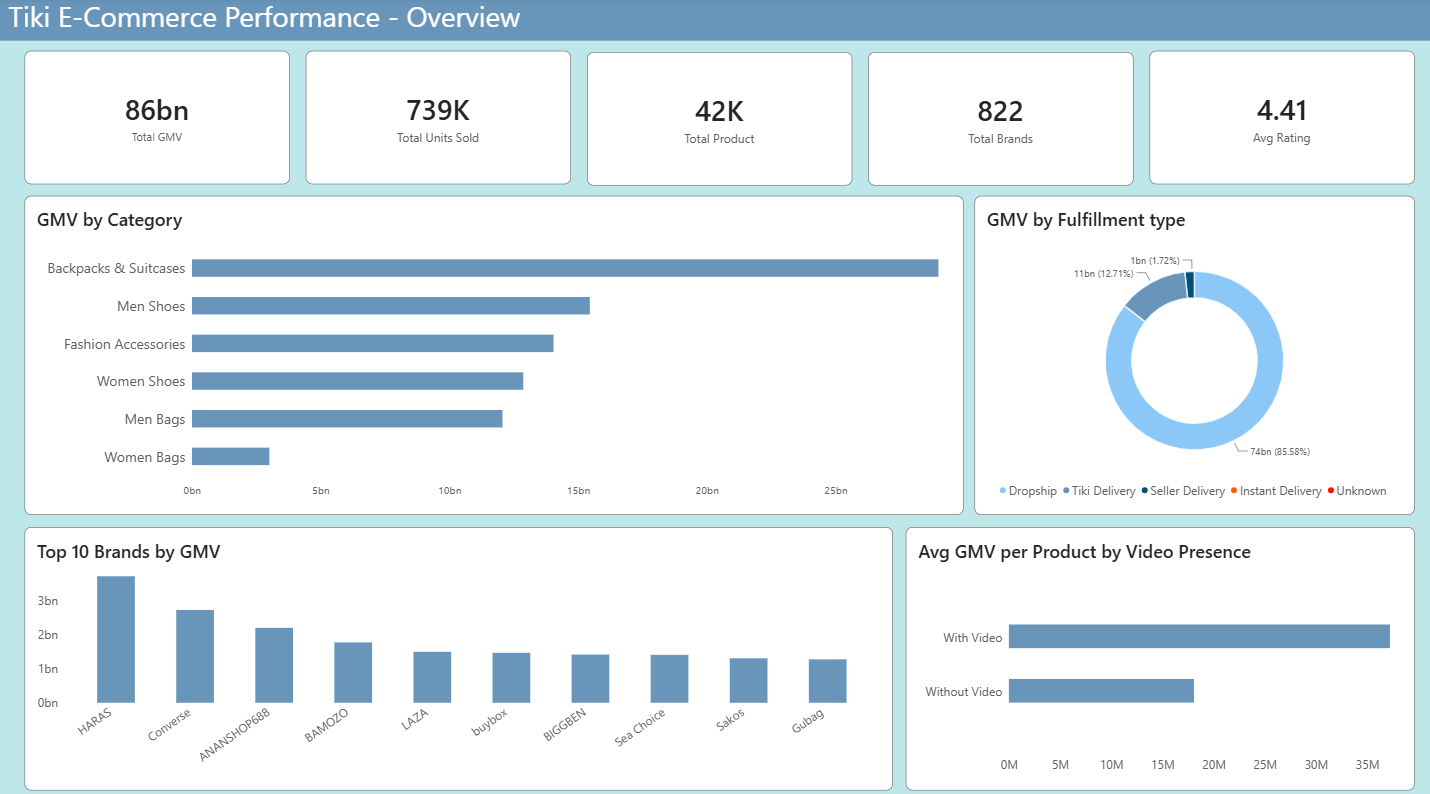

The dashboard page shown, as its layout file describes it:
{"tool":"powerbi","page":{"name":"Overview","canvas":[1920,1080],"ordinal":0},"visuals":[{"type":"shape","box":[0,0,1920,58],"z":0},{"type":"textbox","box":[15.1,0,718.5,73.6],"z":1000},{"type":"card","fields":{"Values":["tiki_products_cleaned.Total Product"]},"box":[788,74,354,178],"z":2000},{"type":"card","fields":{"Values":["tiki_products_cleaned.Avg Rating (Overview)"]},"box":[1540,72,354,178],"z":3000},{"type":"card","fields":{"Values":["tiki_products_cleaned.Total Units Sold"]},"box":[412,72,354,178],"z":4000},{"type":"card","fields":{"Values":["tiki_products_cleaned.Total_GMV"]},"box":[36,72,354,178],"z":5000},{"type":"clusteredBarChart","title":"GMV by Category","fields":{"Category":["tiki_products_cleaned.category"],"Y":["tiki_products_cleaned.Total_GMV"]},"box":[36,266,1254,426],"z":6000},{"type":"donutChart","title":"GMV by Fulfillment type","fields":{"Category":["tiki_products_cleaned.fulfillment_type"],"Y":["tiki_products_cleaned.Total_GMV"]},"box":[1306,266,588,426],"z":7000},{"type":"columnChart","title":"Top 10 Brands by GMV","fields":{"Category":["tiki_products_cleaned.brand"],"Y":["tiki_products_cleaned.Total_GMV"]},"box":[36,708,1160,352],"z":8000},{"type":"card","fields":{"Values":["Count(tiki_products_cleaned.brand)"]},"box":[1164,74,354,178],"z":9000},{"type":"clusteredBarChart","title":"Avg GMV per Product by Video Presence","fields":{"Category":["tiki_products_cleaned.Video Presence"],"Y":["tiki_products_cleaned.Avg GMV per Product"]},"box":[1214,708,680,352],"z":10000}]}

Visuals, with their boxes in screenshot pixels (x1, y1, x2, y2), scaled from the page's 1920x1080 canvas onto the 1430x794 screenshot:
shape: (0, 0, 1429, 43)
textbox: (11, 0, 546, 54)
card - tiki_products_cleaned.Total Product: (587, 54, 851, 185)
card - tiki_products_cleaned.Avg Rating (Overview): (1147, 53, 1411, 184)
card - tiki_products_cleaned.Total Units Sold: (307, 53, 571, 184)
card - tiki_products_cleaned.Total_GMV: (27, 53, 290, 184)
"GMV by Category" clusteredBarChart: (27, 196, 961, 509)
"GMV by Fulfillment type" donutChart: (973, 196, 1411, 509)
"Top 10 Brands by GMV" columnChart: (27, 521, 891, 779)
card - Count(tiki_products_cleaned.brand): (867, 54, 1131, 185)
"Avg GMV per Product by Video Presence" clusteredBarChart: (904, 521, 1411, 779)
